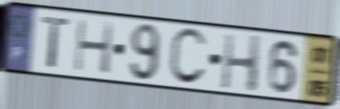6: (266, 39, 300, 96)
9: (128, 21, 164, 84)
C: (167, 26, 209, 88)
H: (219, 32, 264, 96), (72, 17, 116, 76)
T: (40, 14, 72, 71)
